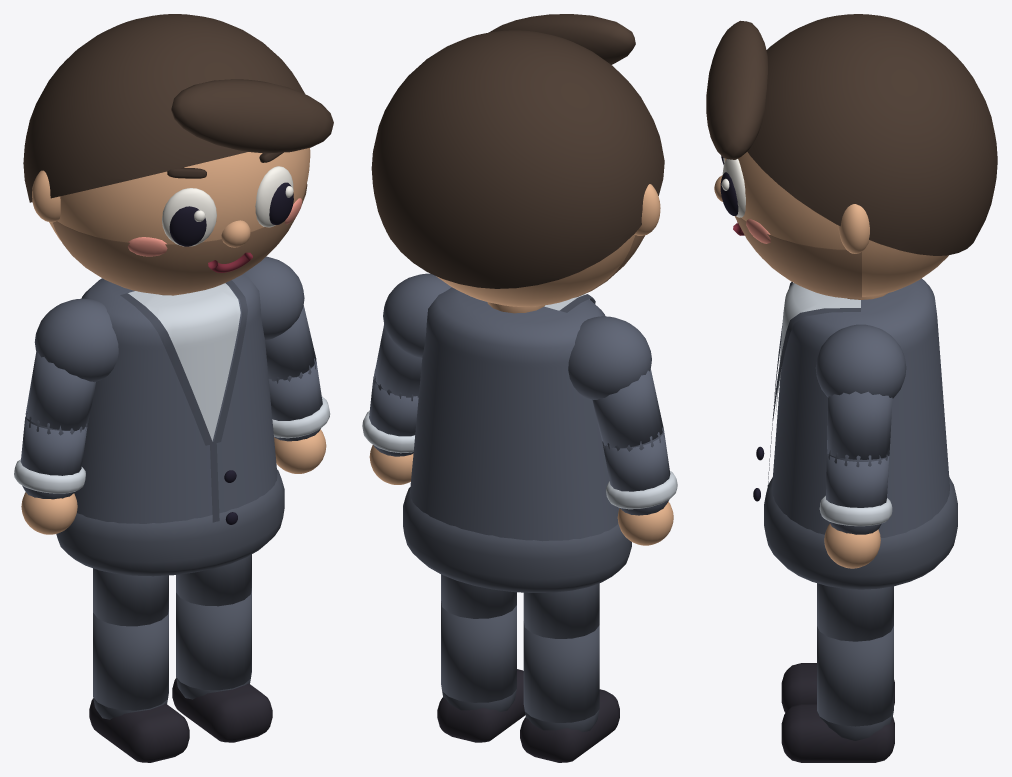
File: ch_passer_busstop.fbx
The picture shows the model from 3 angles, left to right: view 1: azimuth 30°, elevation 25°; view 2: azimuth 150°, elevation 25°; view 3: azimuth 270°, elevation 25°; orthographic projection.
Parts seen in each view (by area): view 1: ch_passer_busstop__base, ch_passer_busstop__anim_leg_l, ch_passer_busstop__anim_leg_r, ch_passer_busstop__anim_arm_l, ch_passer_busstop__anim_arm_r; view 2: ch_passer_busstop__base, ch_passer_busstop__anim_leg_l, ch_passer_busstop__anim_leg_r, ch_passer_busstop__anim_arm_l, ch_passer_busstop__anim_arm_r; view 3: ch_passer_busstop__base, ch_passer_busstop__anim_leg_r, ch_passer_busstop__anim_arm_r, ch_passer_busstop__anim_leg_l.
Boxes of the visible parts, x1,y1,x2,y2 form: ch_passer_busstop__base: (23, 14, 333, 576); ch_passer_busstop__anim_leg_l: (89, 568, 189, 762); ch_passer_busstop__anim_leg_r: (172, 554, 272, 742); ch_passer_busstop__anim_arm_l: (14, 352, 95, 534); ch_passer_busstop__anim_arm_r: (265, 305, 330, 473); ch_passer_busstop__base: (371, 14, 664, 592); ch_passer_busstop__anim_leg_l: (520, 583, 619, 762); ch_passer_busstop__anim_leg_r: (437, 574, 525, 742); ch_passer_busstop__anim_arm_l: (592, 368, 677, 545); ch_passer_busstop__anim_arm_r: (362, 324, 422, 484); ch_passer_busstop__base: (706, 14, 997, 589); ch_passer_busstop__anim_leg_r: (781, 583, 894, 762); ch_passer_busstop__anim_arm_r: (819, 391, 892, 568); ch_passer_busstop__anim_leg_l: (781, 663, 894, 712).
Bounding box in the file's own units: 0.7038 × 1.54 × 0.5759.
